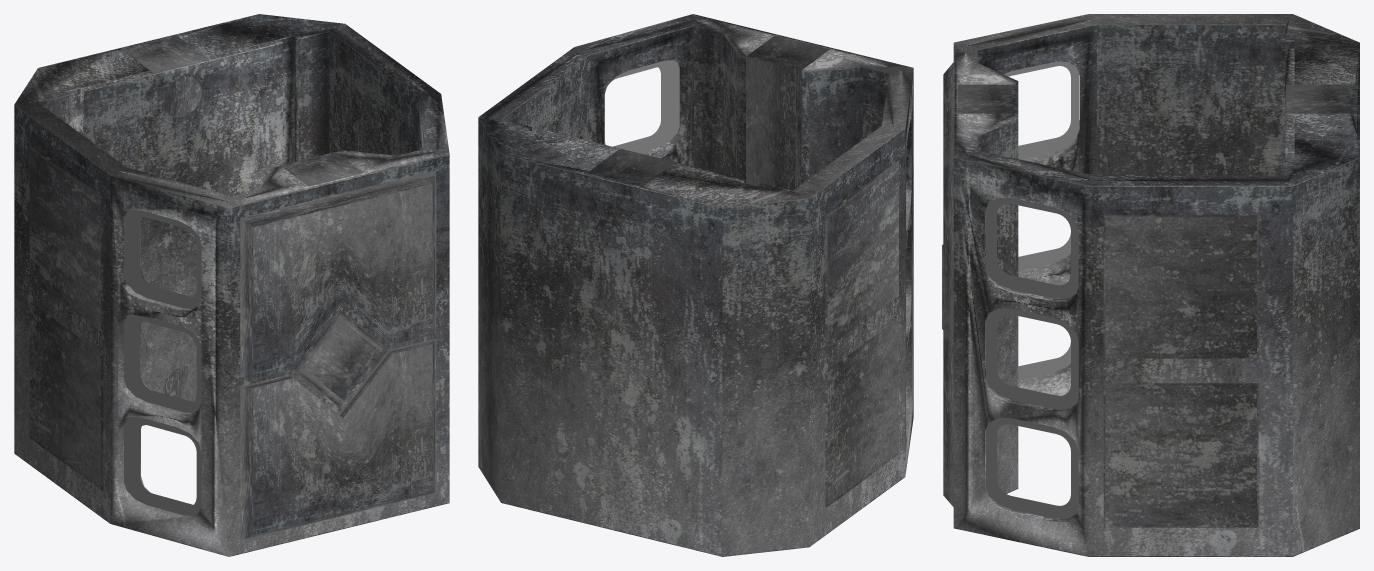
The model's file is Corridor_LOD0.obj.
3 views of the same model, side by side, from view 1: azimuth 30°, elevation 25°; view 2: azimuth 150°, elevation 25°; view 3: azimuth 270°, elevation 25° (orthographic). The views are drawn at different scales.
Visible parts, largest first — view 1: Cylinder938, Box1361, Box1321, Box1331, Box1323, Box1327, Box1348, Plane37, Plane29, Plane34, Box285; view 2: Cylinder938, Box1331, Box1323, Box285, Box1348, Plane44; view 3: Cylinder938, Box1326, Box1322, Box1361, Plane43, Plane38, Plane46, Box1348, Box1321, Box285, Plane31, Plane35 (+1 smaller).
Boxes of the visible parts, left/top/right/bottom form: Cylinder938: left=14, top=14, right=449, bottom=556; Box1361: left=240, top=170, right=436, bottom=378; Box1321: left=240, top=338, right=436, bottom=540; Box1331: left=29, top=302, right=103, bottom=490; Box1323: left=29, top=144, right=103, bottom=331; Box1327: left=292, top=309, right=384, bottom=406; Box1348: left=121, top=35, right=209, bottom=401; Plane37: left=124, top=417, right=201, bottom=515; Plane29: left=124, top=209, right=201, bottom=308; Plane34: left=124, top=314, right=201, bottom=412; Box285: left=280, top=152, right=363, bottom=186; Cylinder938: left=478, top=14, right=913, bottom=556; Box1331: left=825, top=318, right=898, bottom=507; Box1323: left=825, top=160, right=898, bottom=348; Box285: left=746, top=35, right=829, bottom=190; Box1348: left=587, top=148, right=675, bottom=186; Plane44: left=604, top=60, right=679, bottom=152; Cylinder938: left=953, top=14, right=1359, bottom=556; Box1326: left=1103, top=383, right=1258, bottom=527; Box1322: left=1103, top=215, right=1258, bottom=358; Box1361: left=943, top=62, right=953, bottom=332; Plane43: left=986, top=308, right=1078, bottom=409; Plane38: left=986, top=418, right=1078, bottom=518; Plane46: left=986, top=198, right=1078, bottom=298; Box1348: left=1286, top=84, right=1357, bottom=113; Box1321: left=943, top=328, right=953, bottom=506; Box285: left=958, top=84, right=1018, bottom=113; Plane31: left=1003, top=62, right=1079, bottom=159; Plane35: left=1018, top=282, right=1070, bottom=379.
Size of the model in its own units: 39.38 by 39.4 by 40.15.
Materials: 3 (1 with a texture image).
